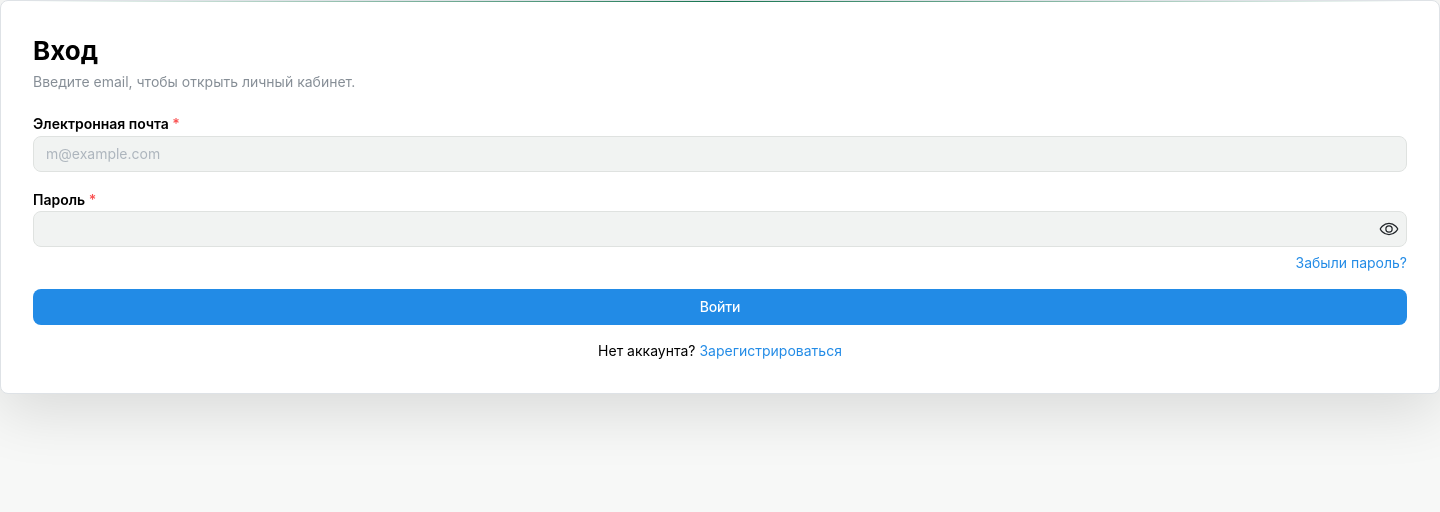
Test: authentication forms › submits credentials and presents a stable sign-in error
In the field labelled "Электронная почта": (720, 154) top-left (33, 136), bottom-right (1407, 172), type "founder@example.test"
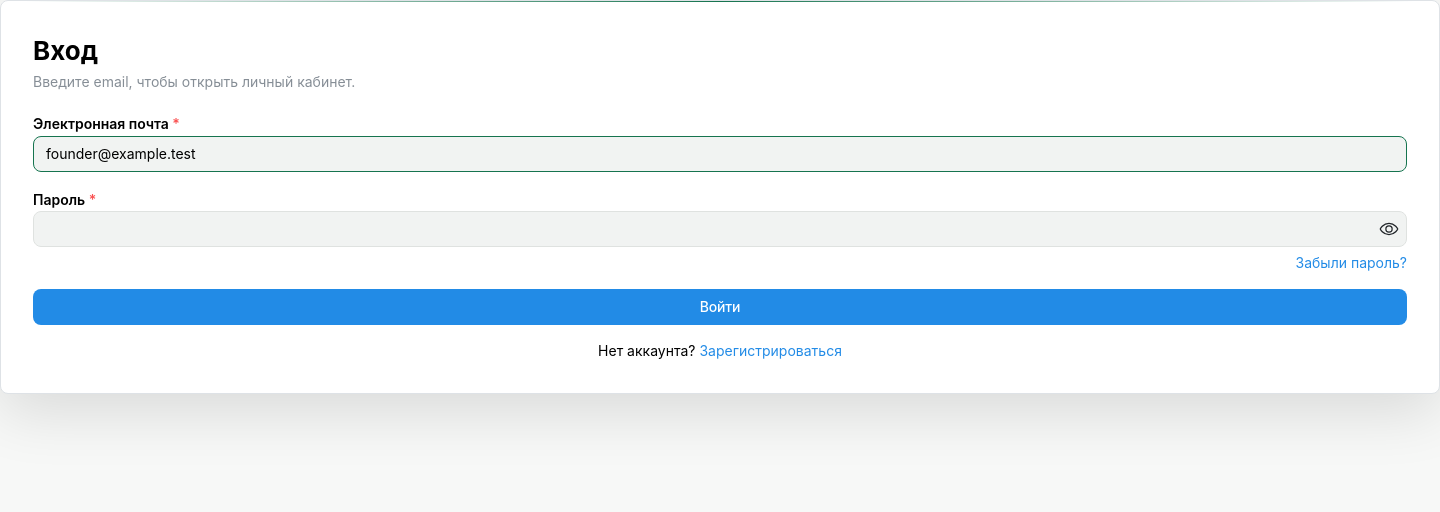
In the password field labelled "Пароль *": (720, 229) top-left (34, 212), bottom-right (1406, 246), type "correct-horse-battery-staple"
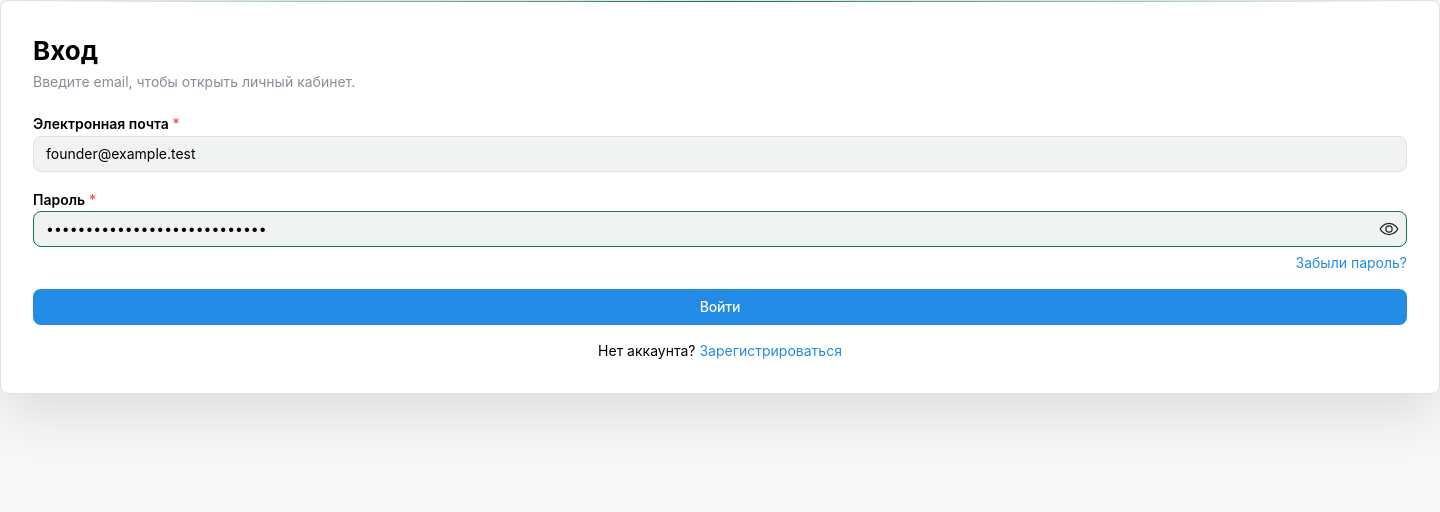
Click the button "Войти": (720, 307) top-left (33, 289), bottom-right (1407, 325)
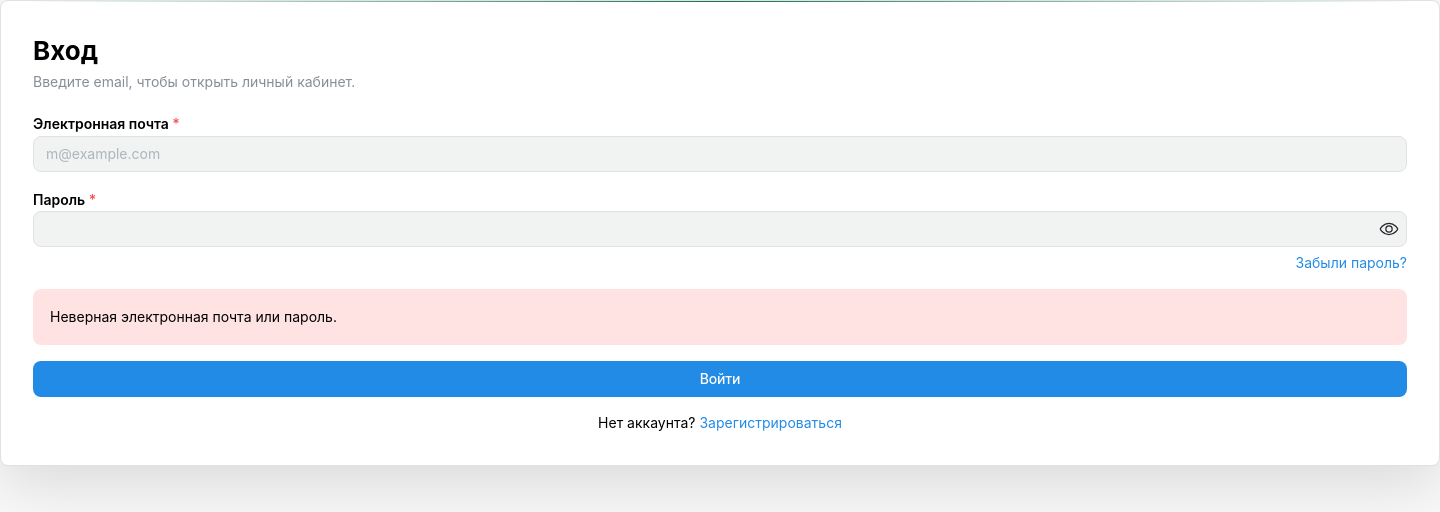
Expected: the message reads "Неверная электронная почта или пароль.", top-left (50, 308), bottom-right (337, 325)
